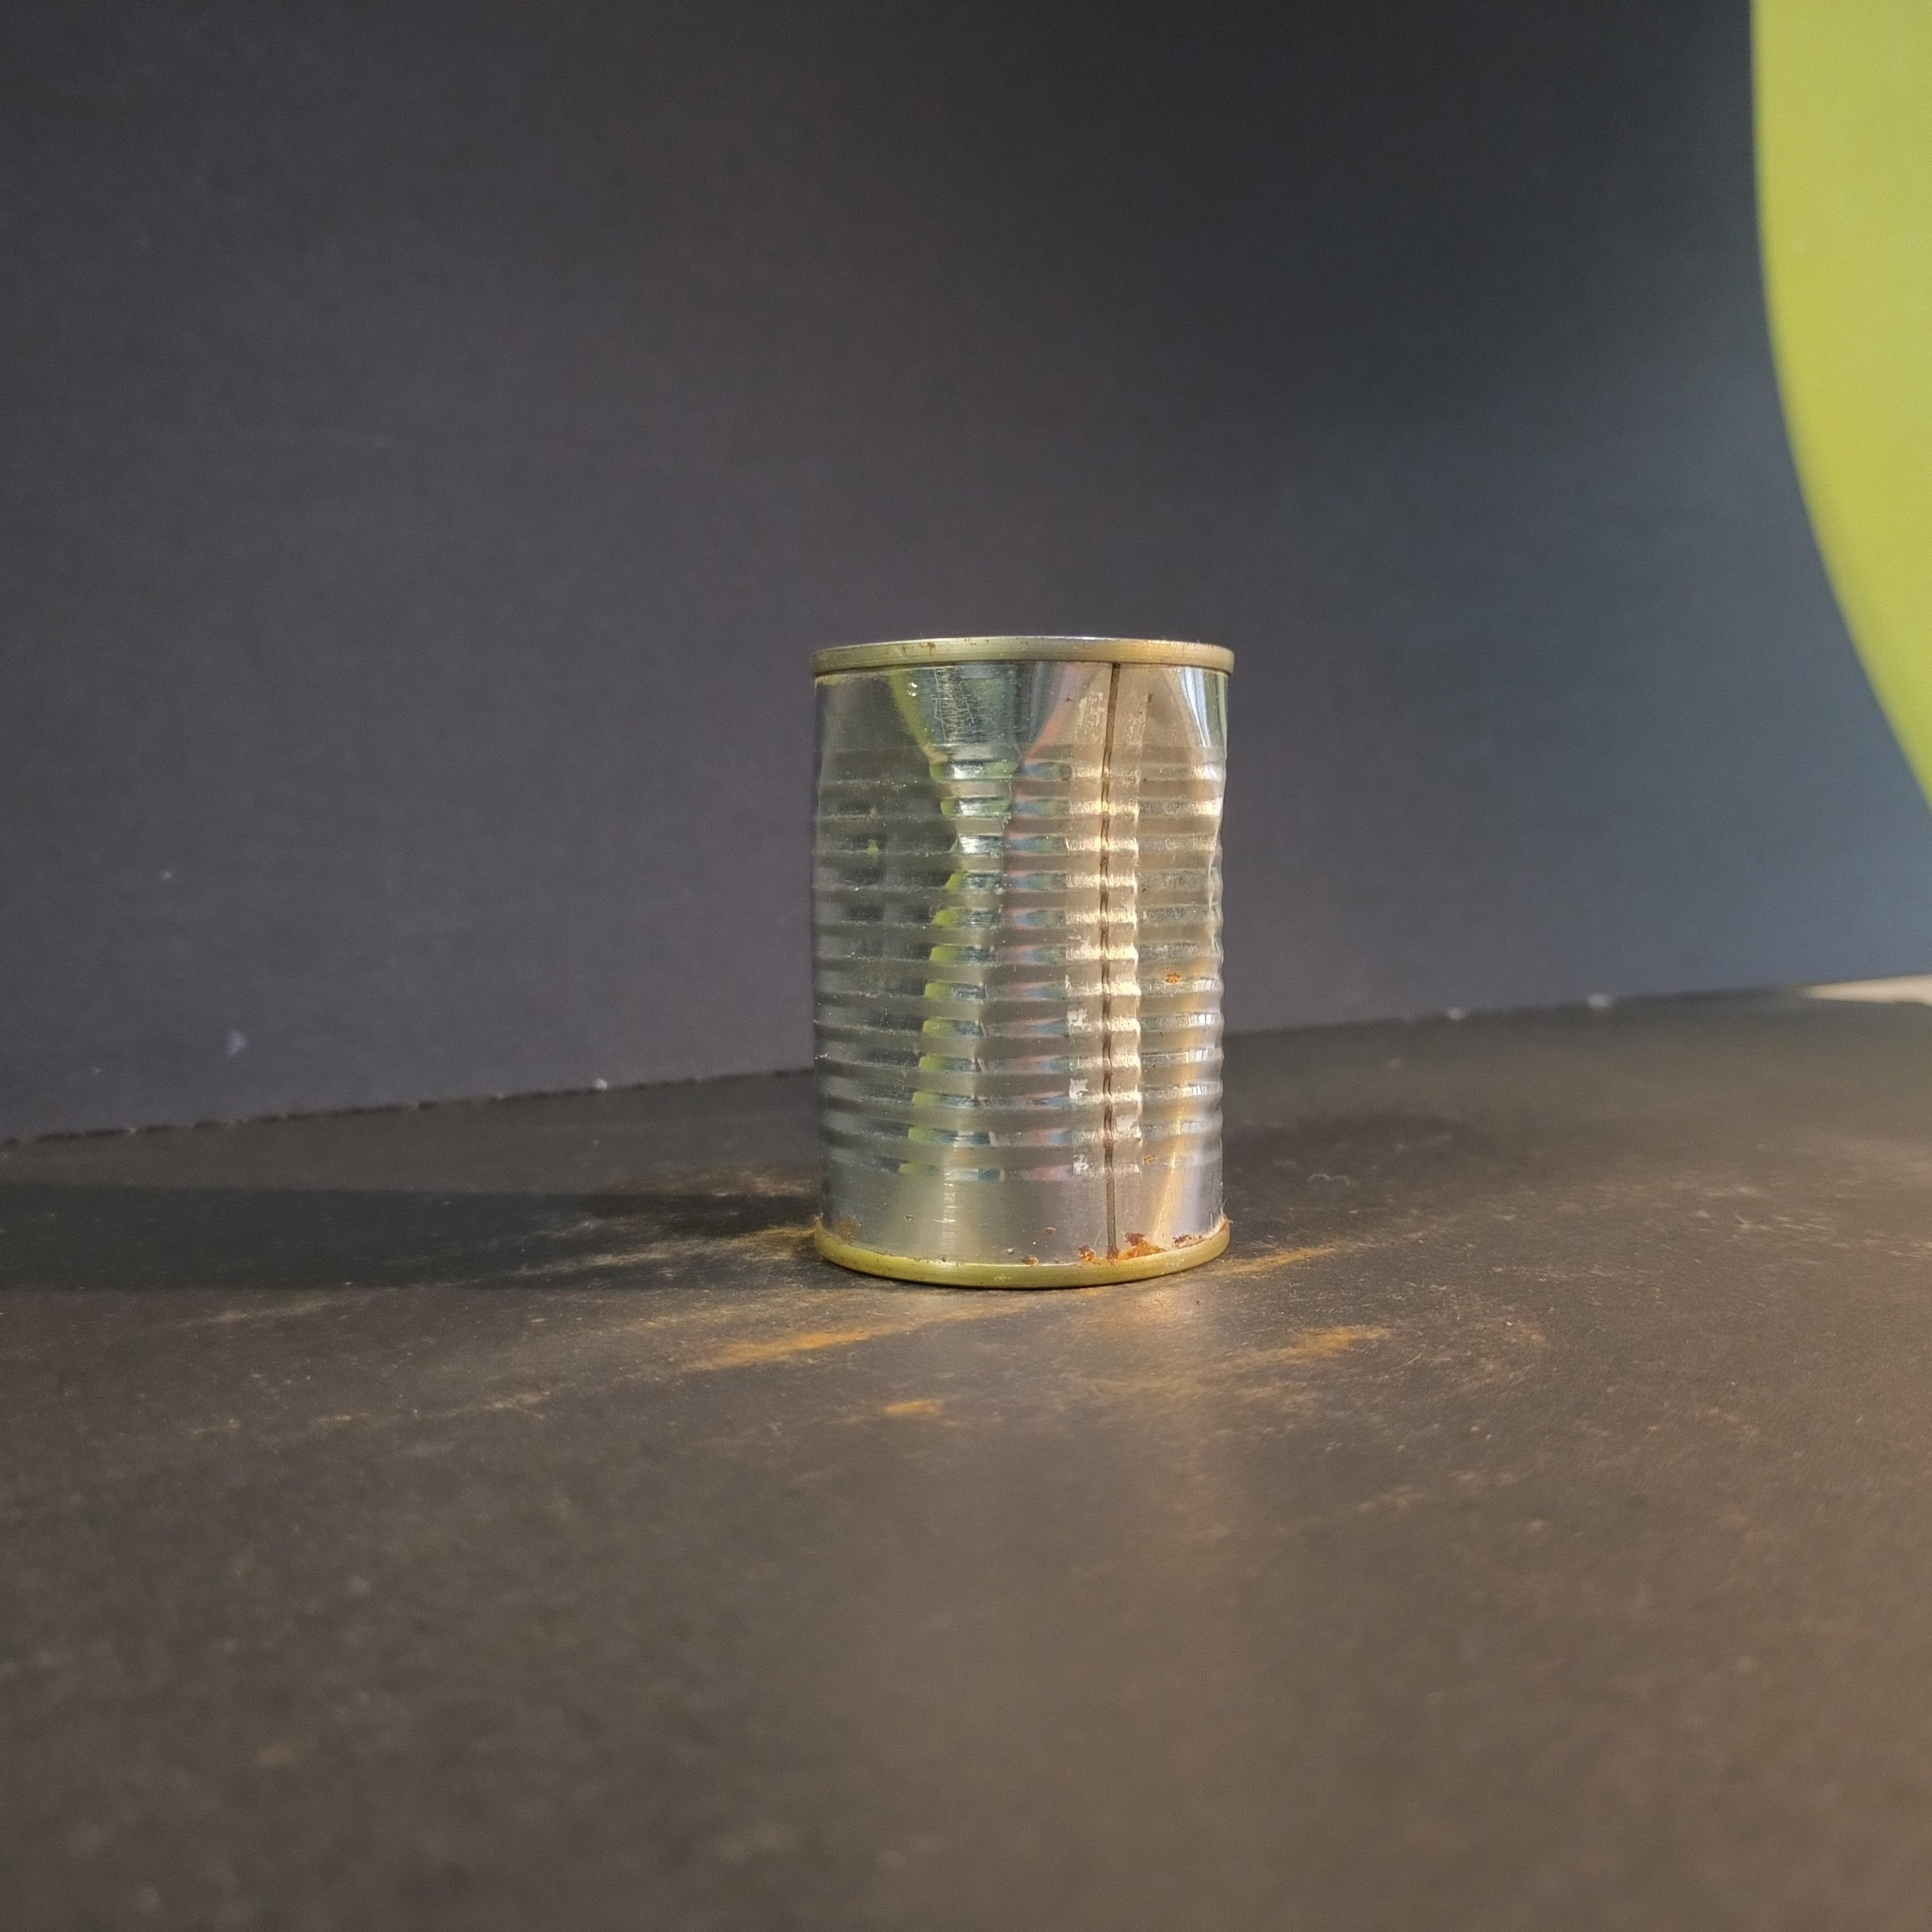Dented: (764, 596, 1267, 1313)
